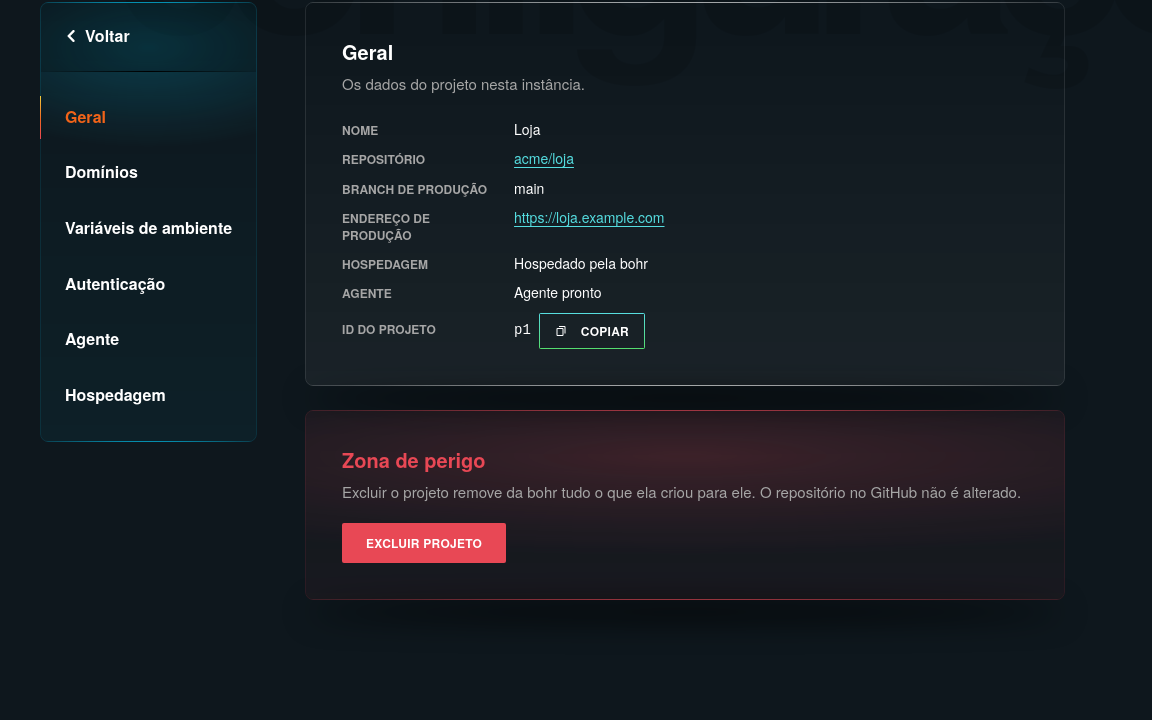
Test: project settings › danger zone › offers the site only for projects in the owner’s account, and shows a refusal
(page scrolled)
Step 1. Click the button "Excluir projeto" → coordinates (424, 543), box [342, 523, 506, 563]
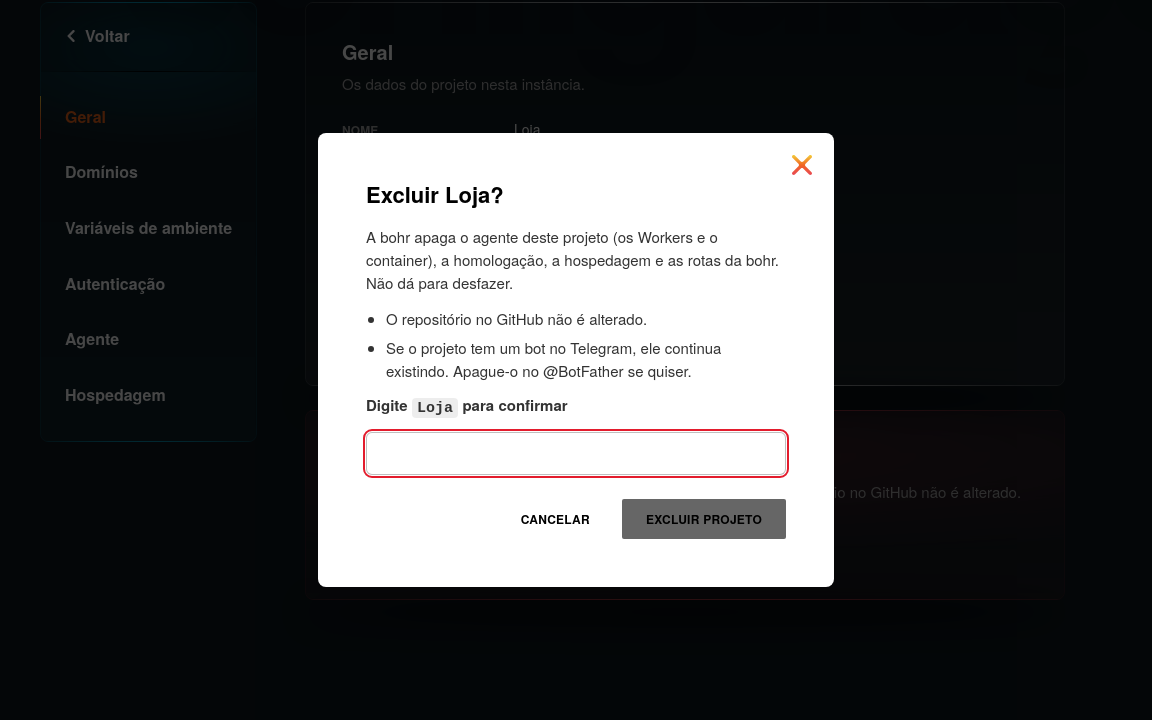
Step 2. Type "Loja" into the field labelled "Digite Loja para confirmar" → coordinates (576, 453), box [366, 432, 786, 475]
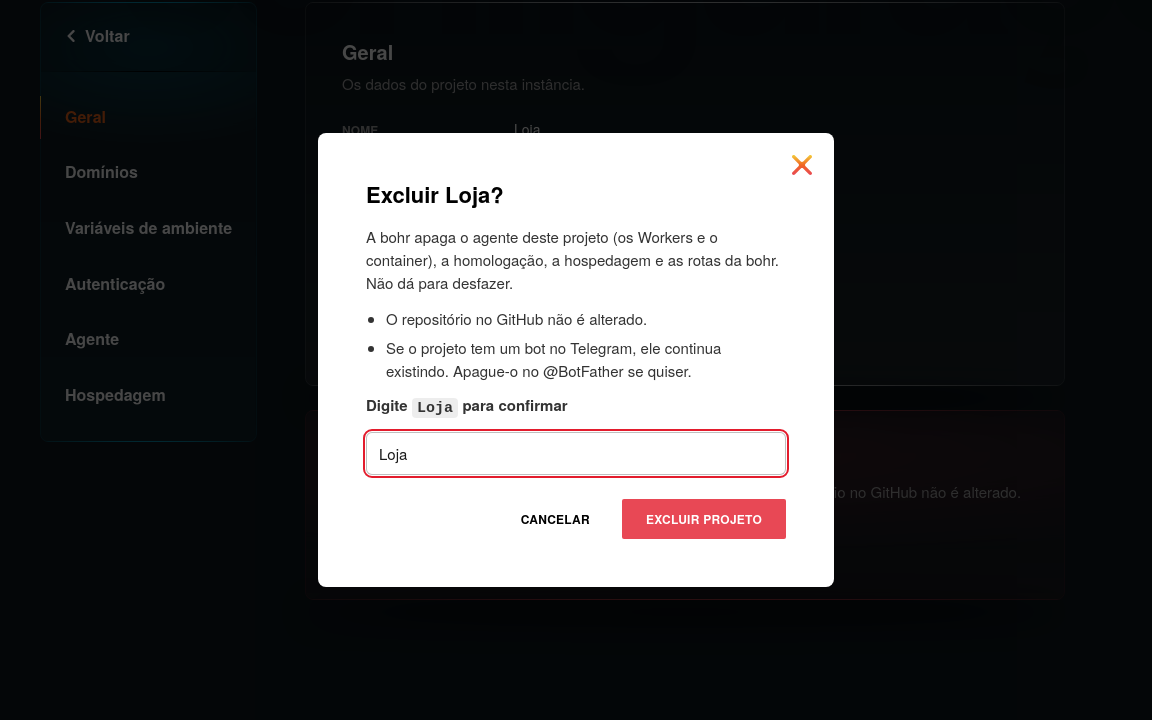
Step 3. Click the button "Excluir projeto" → coordinates (704, 519), box [622, 499, 786, 539]
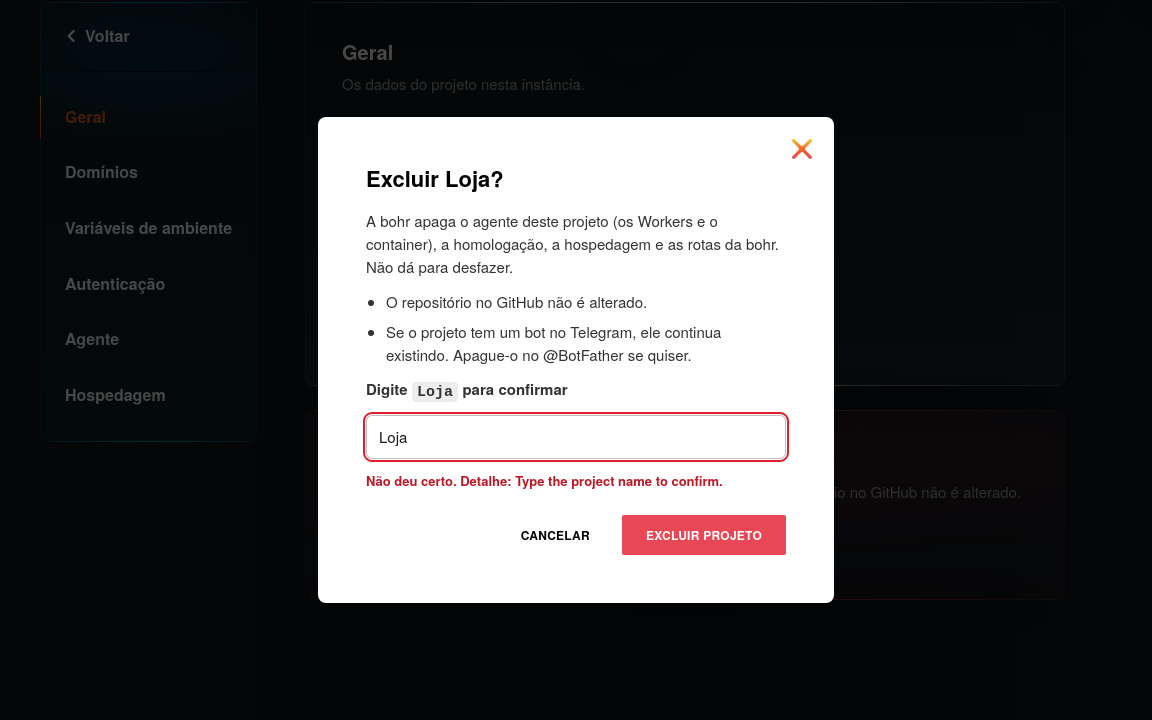
Expected: the message "Não deu certo. Detalhe: Type the project name to confirm." is shown, [366, 471, 723, 490]
